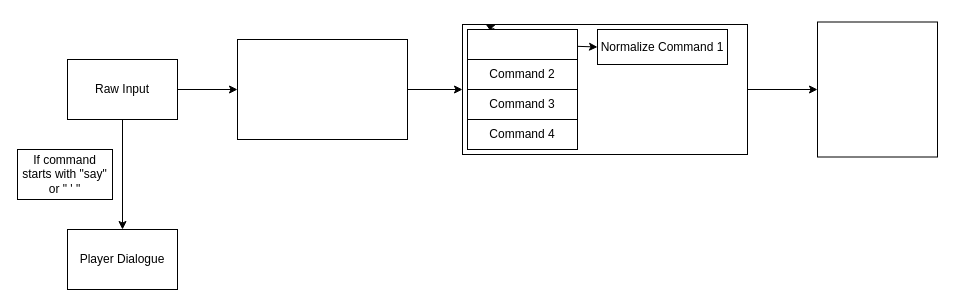
This 955x307 diagram has some shape labels left out. Here are the shapes that lost their labels. From the top down, the centre of each, then its label:
(x=522, y=44): Command 1
(x=322, y=89): Normalized Input
(x=877, y=89): Actions List
